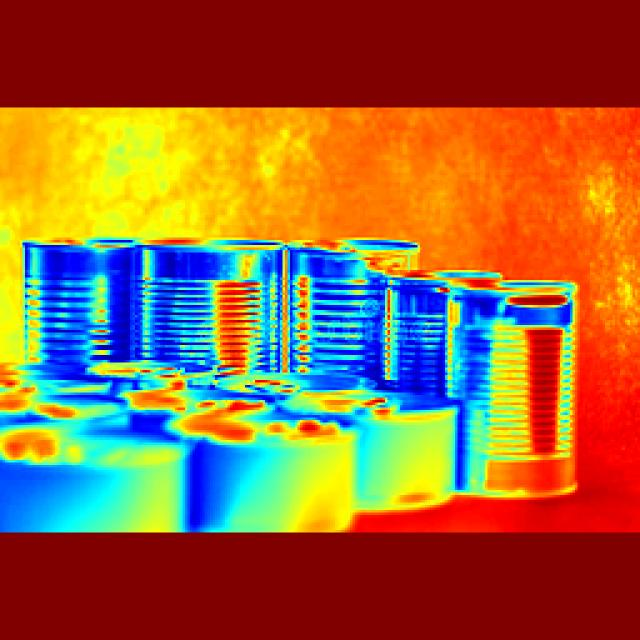Aluminium Food Cans: (462, 289, 588, 499), (23, 232, 147, 379), (147, 238, 290, 356), (292, 233, 393, 377)
